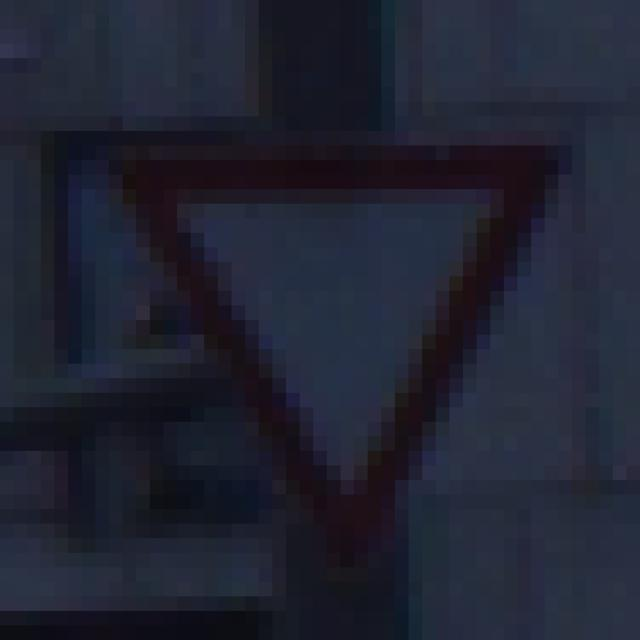Give Way: (83, 89, 573, 569)
